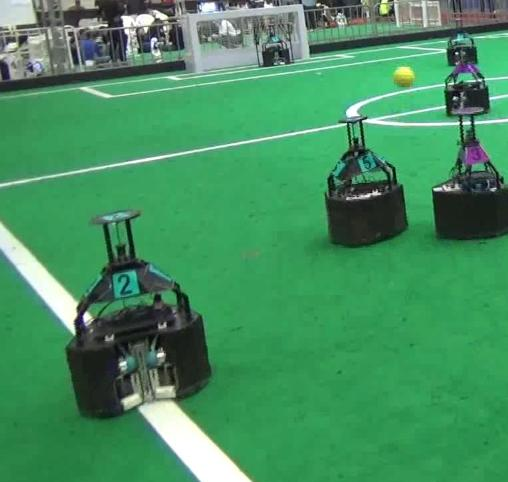robot: (59, 203, 217, 422), (321, 116, 415, 247), (429, 107, 508, 242)
